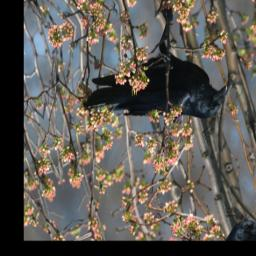Crow: (72, 0, 239, 172)
